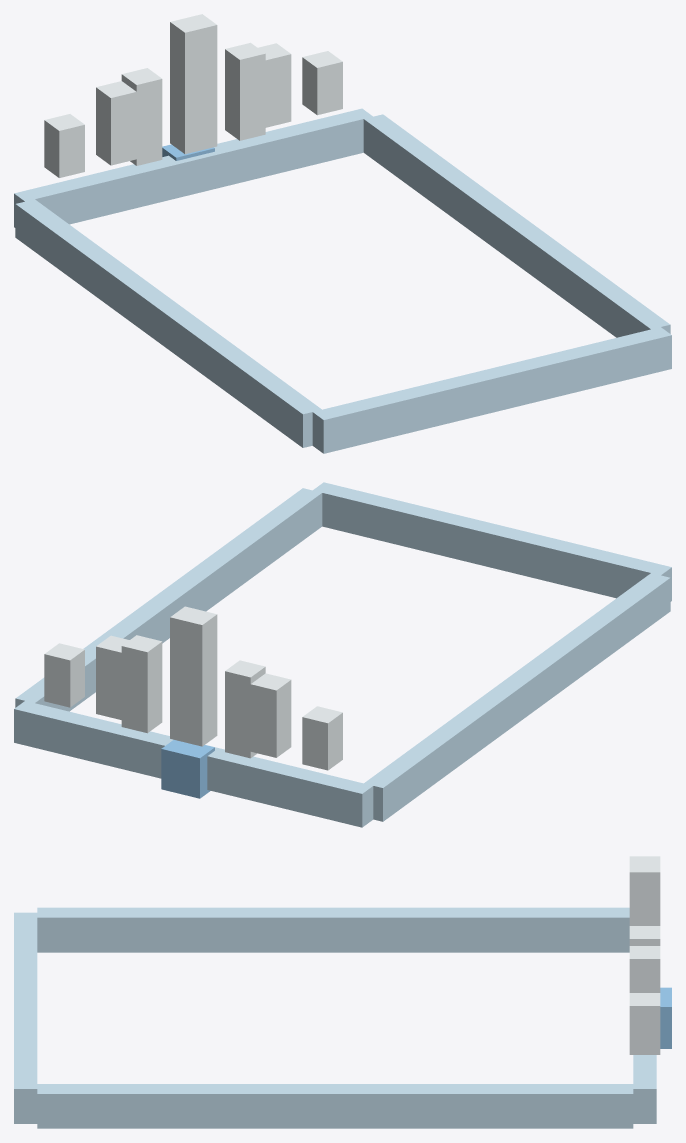
Rendered from tiara_gelo.glb.
The picture shows the model from 3 angles, top to bottom: view 1: azimuth 30°, elevation 25°; view 2: azimuth 150°, elevation 25°; view 3: azimuth 270°, elevation 25°; orthographic projection. The views are drawn at different scales.
Parts seen in each view (by area): view 1: tiara_gelo; view 2: tiara_gelo; view 3: tiara_gelo.
Boxes of the visible parts, left/top/right/bottom form: tiara_gelo: left=14, top=14, right=671, bottom=453; tiara_gelo: left=14, top=482, right=671, bottom=827; tiara_gelo: left=14, top=856, right=671, bottom=1128.
Size of the model in its own units: 0.57 by 0.25 by 0.852.
